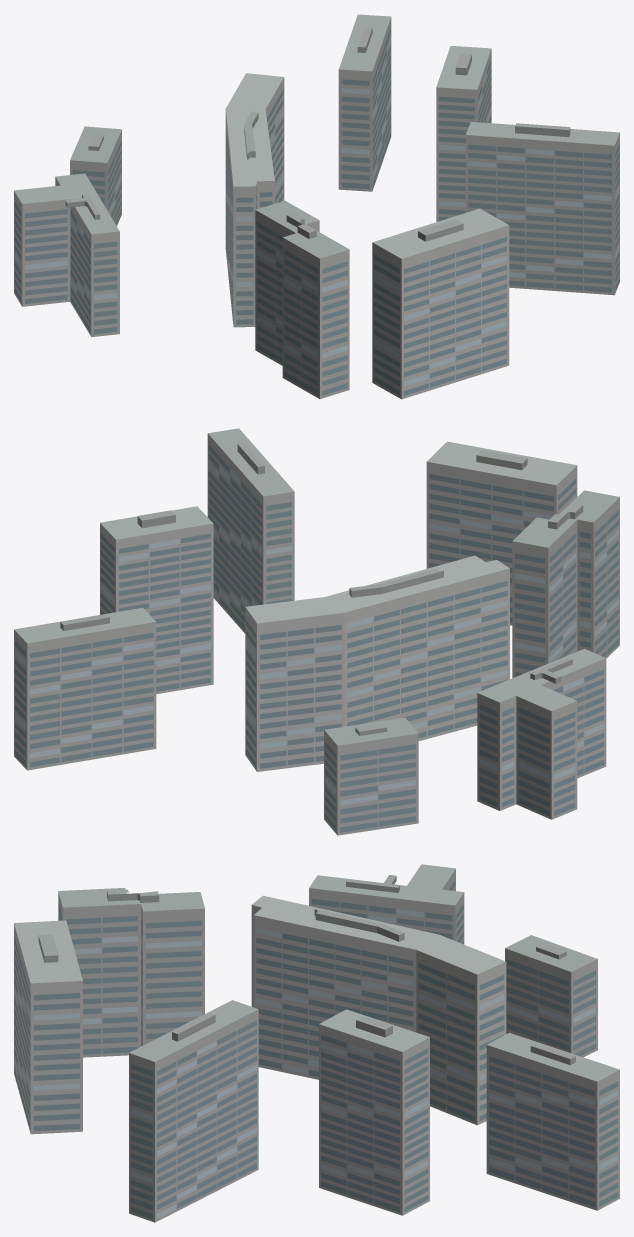
The model's file is apt-a12102005.glb.
The picture shows the model from 3 angles, top to bottom: view 1: azimuth 30°, elevation 25°; view 2: azimuth 150°, elevation 25°; view 3: azimuth 270°, elevation 25°; orthographic projection. The views are drawn at different scales.
Parts seen in each view (by area): view 1: apt-a12102005; view 2: apt-a12102005; view 3: apt-a12102005.
Part boxes in pixels (box(x1,y1,x2,y2)): apt-a12102005: box(14, 14, 619, 399); apt-a12102005: box(14, 428, 619, 835); apt-a12102005: box(14, 864, 619, 1222).
Bounding box in the file's own units: 161 × 52 × 167.
